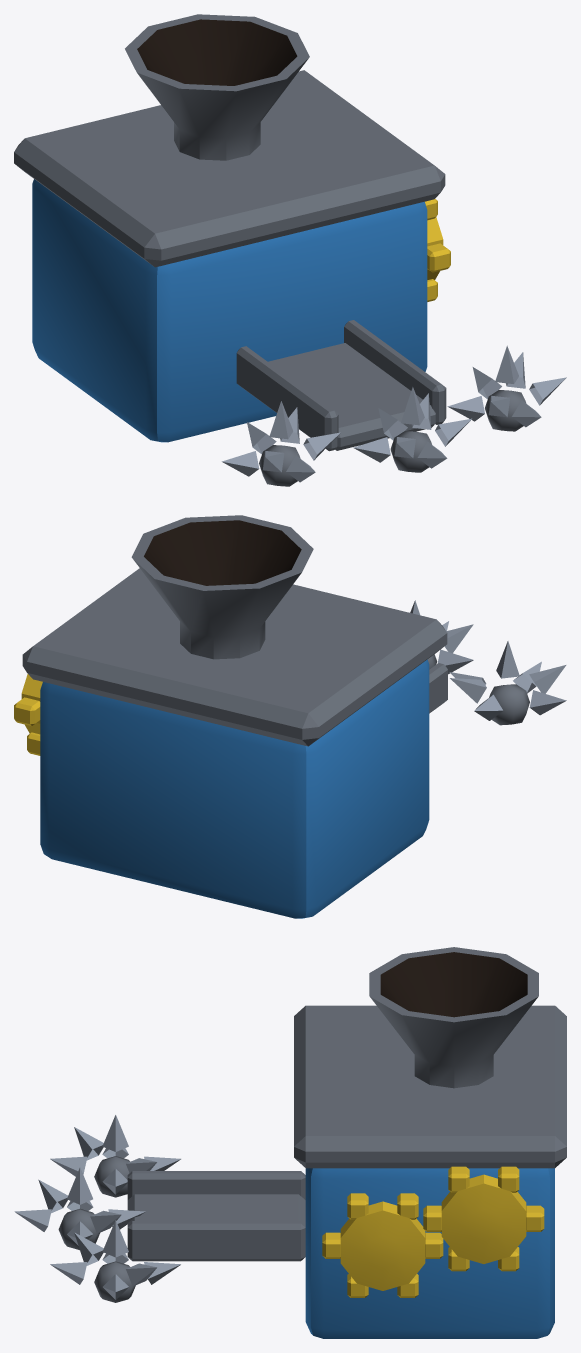
The picture shows the model from 3 angles, top to bottom: view 1: azimuth 30°, elevation 25°; view 2: azimuth 150°, elevation 25°; view 3: azimuth 270°, elevation 25°; orthographic projection. The views are drawn at different scales.
Visible parts, largest first — view 1: espinhos_0_base, espinhos_1_torreta; view 2: espinhos_0_base, espinhos_1_torreta; view 3: espinhos_0_base, espinhos_1_torreta.
Part boxes in pixels (left/top/right/bottom): espinhos_0_base: left=14, top=14, right=566, bottom=486; espinhos_1_torreta: left=236, top=320, right=446, bottom=451; espinhos_0_base: left=14, top=515, right=566, bottom=918; espinhos_1_torreta: left=429, top=663, right=447, bottom=713; espinhos_0_base: left=14, top=947, right=566, bottom=1338; espinhos_1_torreta: left=127, top=1171, right=305, bottom=1261.
Size of the model in its own units: 0.6427 by 0.55 by 0.9313.
